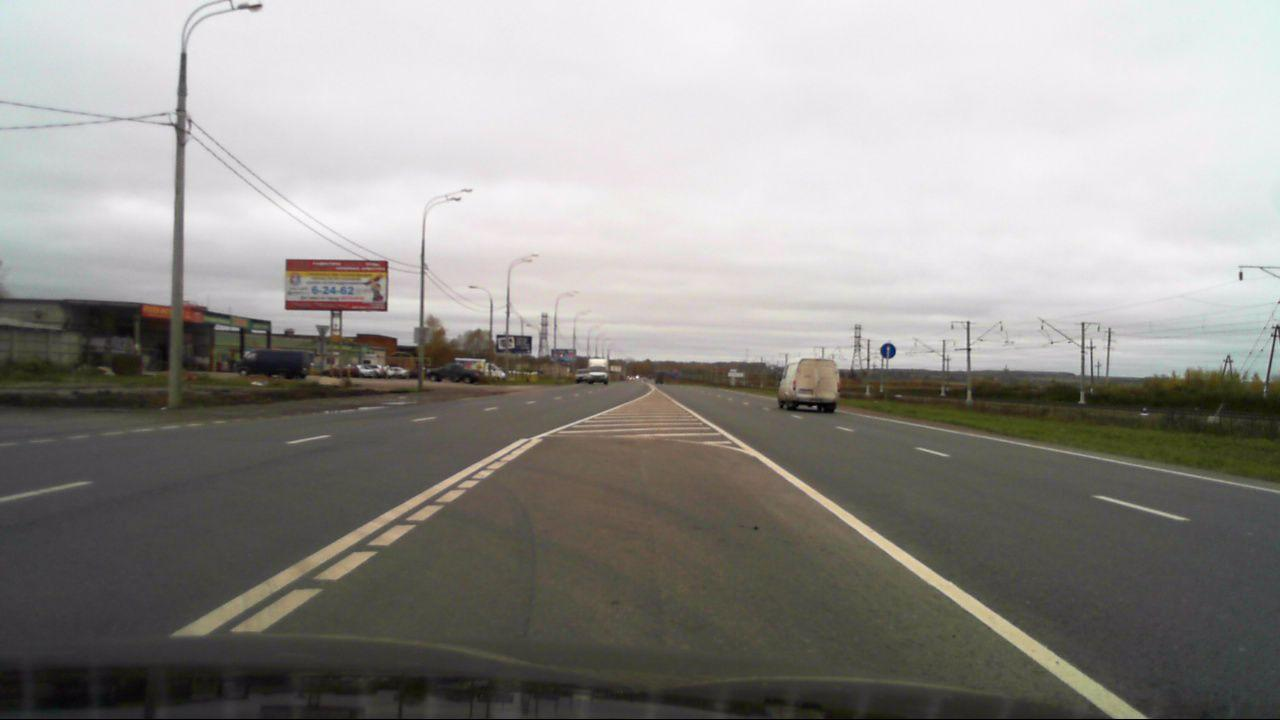road_sign: (879, 342, 897, 359)
